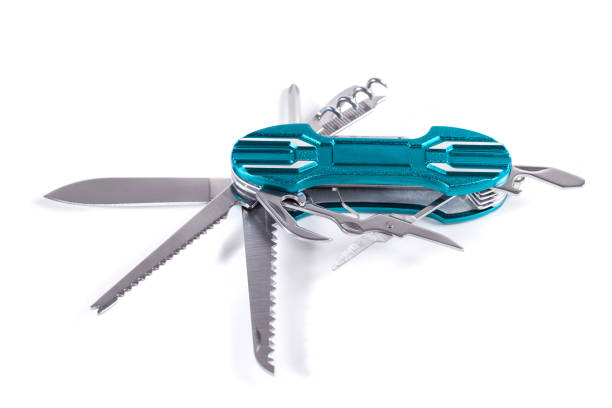knife: (85, 184, 259, 316), (238, 199, 278, 377), (42, 175, 233, 210), (255, 183, 336, 246), (495, 162, 589, 197), (315, 93, 388, 136)
